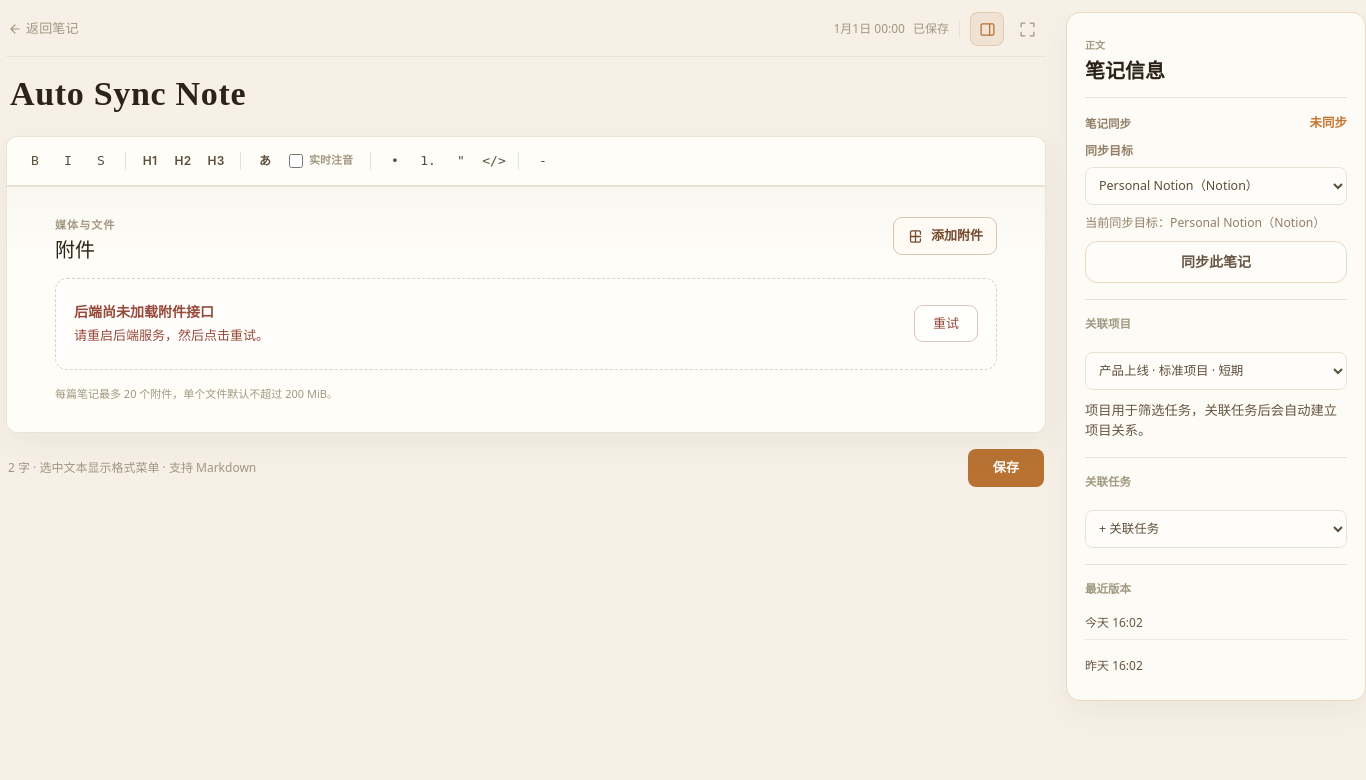
Test: Editor auto sync › explains that a 404 attachment response needs a backend restart and can retry
Expected: the text "后端尚未加载附件接口" is shown, x1=74 y1=302 x2=214 y2=321
Expected: the text "请重启后端服务，然后点击重试。" is shown, x1=74 y1=326 x2=269 y2=346
Click the button "重试": (946, 324) x1=914 y1=305 x2=978 y2=342
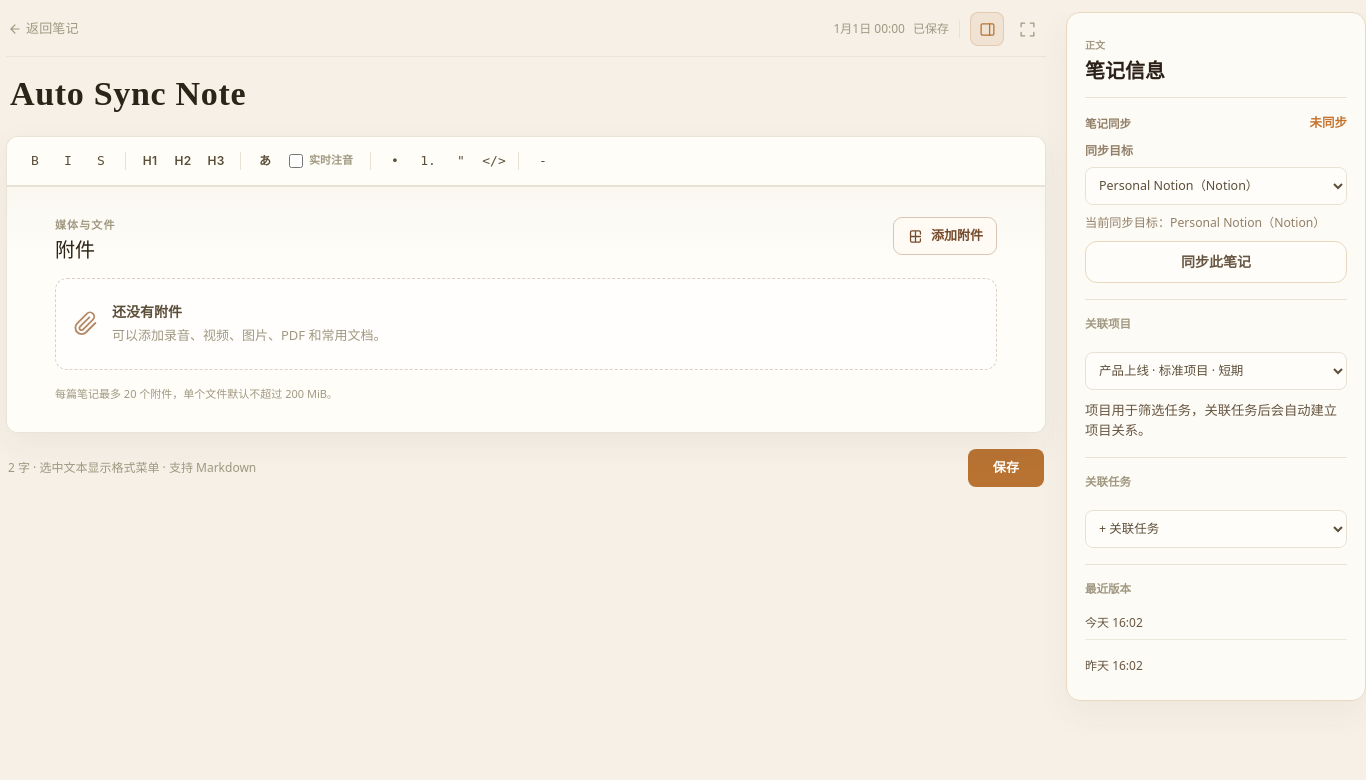
Expected: the text "还没有附件" is shown, x1=112 y1=302 x2=182 y2=321
